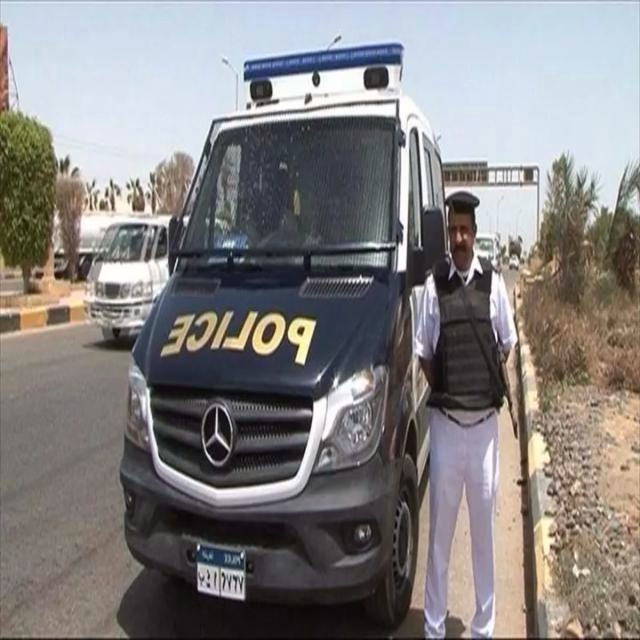person: (414, 190, 519, 639)
police-car: (119, 37, 450, 629)
